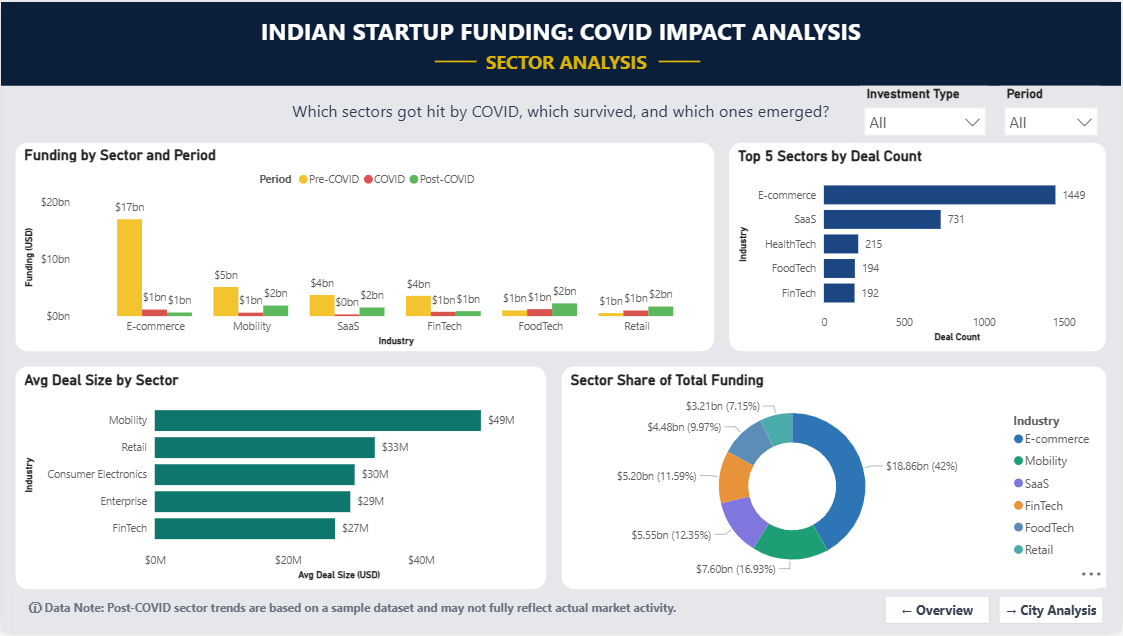

The dashboard page shown, as its layout file describes it:
{"tool":"powerbi","page":{"name":"Sector Analysis ","canvas":[1280,720],"ordinal":1},"visuals":[{"type":"shape","title":"INDIAN STARTUP ECOSYSTEM: COVID IMPACT ANALYSIS","box":[0,0,1280,96],"z":0},{"type":"textbox","box":[0,10,1280,48],"z":1000},{"type":"textbox","box":[0,48,1280,48],"z":2000},{"type":"shape","box":[752,48,48,32],"z":3000},{"type":"shape","box":[496,48,48,32],"z":4000},{"type":"textbox","box":[0,96,1280,48],"z":5000},{"type":"clusteredColumnChart","title":"Funding by Sector and Period","fields":{"Category":["cleaned_startup_funding_data.industry"],"Y":["cleaned_startup_funding_data.total_fundings"],"Series":["cleaned_startup_funding_data.period"]},"box":[16,160,800,240],"z":6000},{"type":"clusteredBarChart","title":"Top 5 Sectors by Deal Count","fields":{"Category":["cleaned_startup_funding_data.industry"],"Y":["cleaned_startup_funding_data.total_deals"]},"box":[832,160,432,240],"z":7000},{"type":"clusteredBarChart","title":"Avg Deal Size by Sector","fields":{"Y":["cleaned_startup_funding_data.avg_deal_size"],"Category":["cleaned_startup_funding_data.industry"]},"box":[16,416,608,256],"z":8000},{"type":"donutChart","title":"Sector Share of Total Funding","fields":{"Category":["cleaned_startup_funding_data.industry"],"Y":["cleaned_startup_funding_data.total_fundings"]},"box":[640,416,624,256],"z":9000},{"type":"slicer","fields":{"Values":["cleaned_startup_funding_data.period"]},"box":[1136,96,128,64],"z":10000},{"type":"textbox","box":[16,672,1248,48],"z":11000},{"type":"slicer","fields":{"Values":["cleaned_startup_funding_data.investment_type"]},"box":[976,96,160,64],"z":12000},{"type":"actionButton","title":"Sector Analysis","box":[1140,679,120,32],"z":13000},{"type":"actionButton","title":"Sector Analysis","box":[1010,679,120,32],"z":14000}]}

Visuals, with their boxes in screenshot pixels (x1, y1, x2, y2), scaled from the page's 1280x720 canvas onto the 1123x636 screenshot:
"INDIAN STARTUP ECOSYSTEM: COVID IMPACT ANALYSIS" shape: box=[0, 0, 1122, 85]
textbox: box=[0, 9, 1122, 51]
textbox: box=[0, 42, 1122, 85]
shape: box=[660, 42, 702, 71]
shape: box=[435, 42, 477, 71]
textbox: box=[0, 85, 1122, 127]
"Funding by Sector and Period" clusteredColumnChart: box=[14, 141, 716, 353]
"Top 5 Sectors by Deal Count" clusteredBarChart: box=[730, 141, 1109, 353]
"Avg Deal Size by Sector" clusteredBarChart: box=[14, 367, 547, 594]
"Sector Share of Total Funding" donutChart: box=[562, 367, 1109, 594]
slicer - cleaned_startup_funding_data.period: box=[997, 85, 1109, 141]
textbox: box=[14, 594, 1109, 635]
slicer - cleaned_startup_funding_data.investment_type: box=[856, 85, 997, 141]
"Sector Analysis" actionButton: box=[1000, 600, 1105, 628]
"Sector Analysis" actionButton: box=[886, 600, 991, 628]
